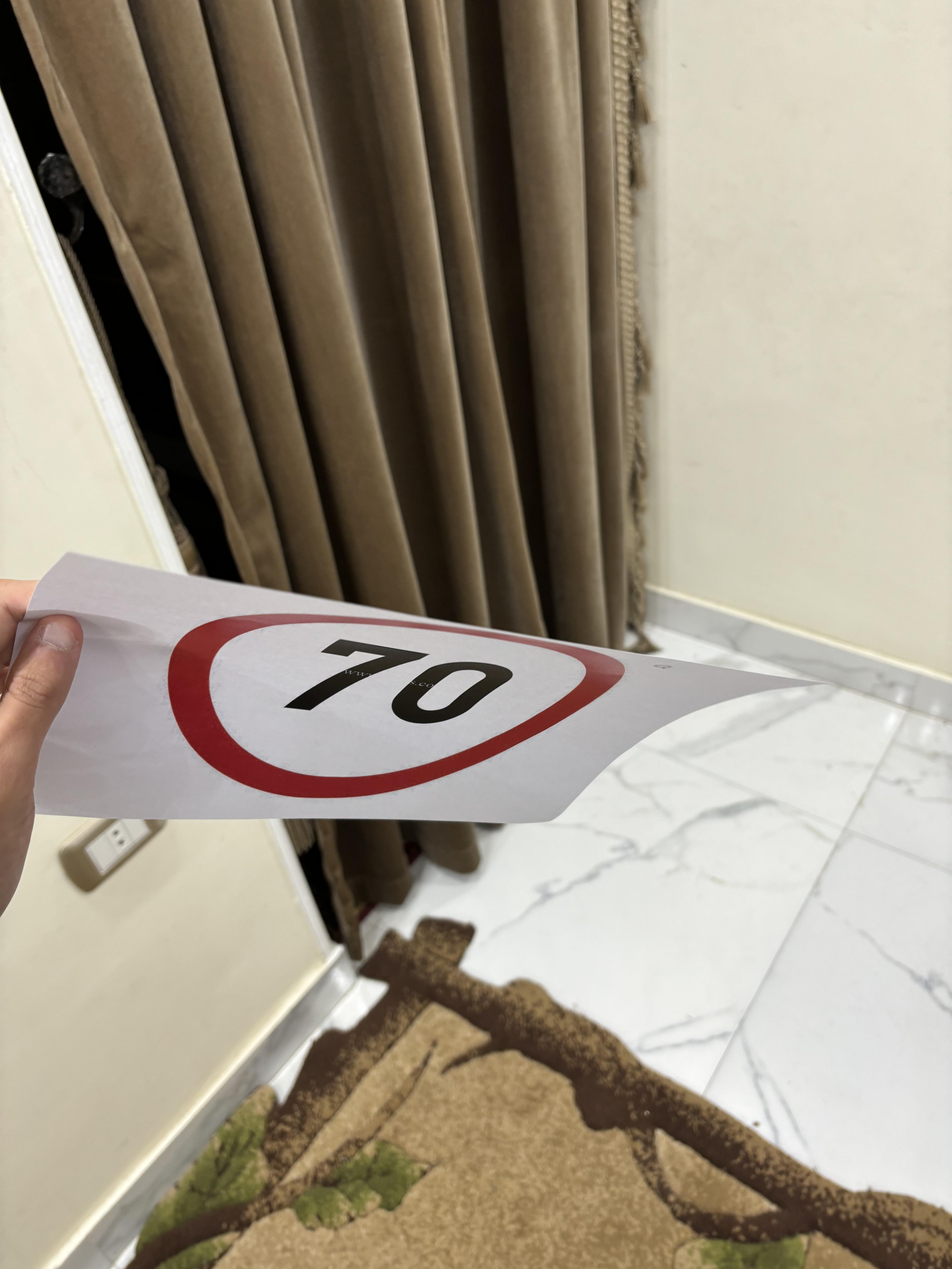70-Speed: (167, 598, 632, 805)
